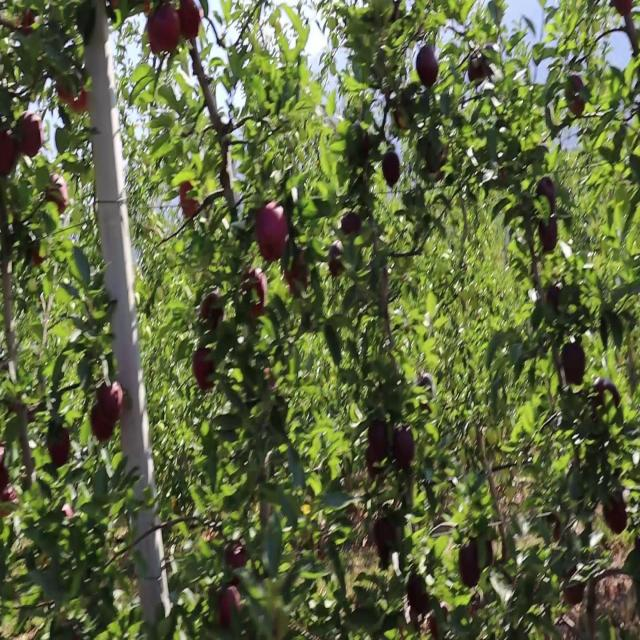apple: (255, 202, 289, 262), (459, 536, 492, 587), (148, 4, 180, 53), (148, 4, 178, 53), (366, 420, 389, 478), (241, 269, 268, 318), (374, 518, 399, 567), (20, 111, 44, 158), (285, 251, 309, 298), (565, 73, 590, 118), (602, 491, 628, 533), (48, 420, 70, 467), (408, 573, 430, 618), (416, 44, 439, 87), (459, 540, 480, 587), (192, 347, 214, 391), (562, 342, 585, 384), (45, 173, 69, 213), (90, 402, 114, 442), (200, 289, 224, 329), (98, 382, 122, 422), (178, 0, 201, 40), (219, 584, 240, 626), (394, 427, 415, 468), (0, 129, 19, 174), (180, 180, 199, 218), (468, 53, 491, 82), (539, 216, 558, 251), (382, 151, 400, 187), (538, 176, 556, 212), (0, 484, 19, 514), (329, 240, 344, 278), (225, 542, 246, 568), (341, 211, 361, 236), (18, 9, 36, 36), (56, 78, 74, 104), (0, 460, 11, 502), (69, 89, 88, 113), (564, 582, 584, 604), (394, 104, 409, 129), (31, 240, 44, 267), (611, 0, 632, 16)
